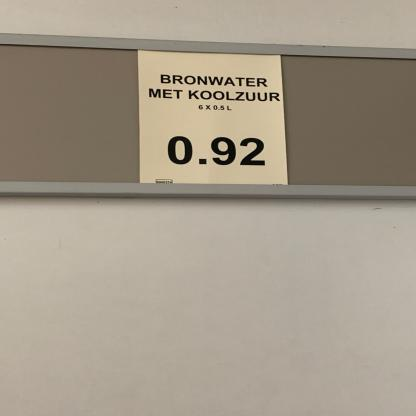prtg: (138, 51, 290, 184)
